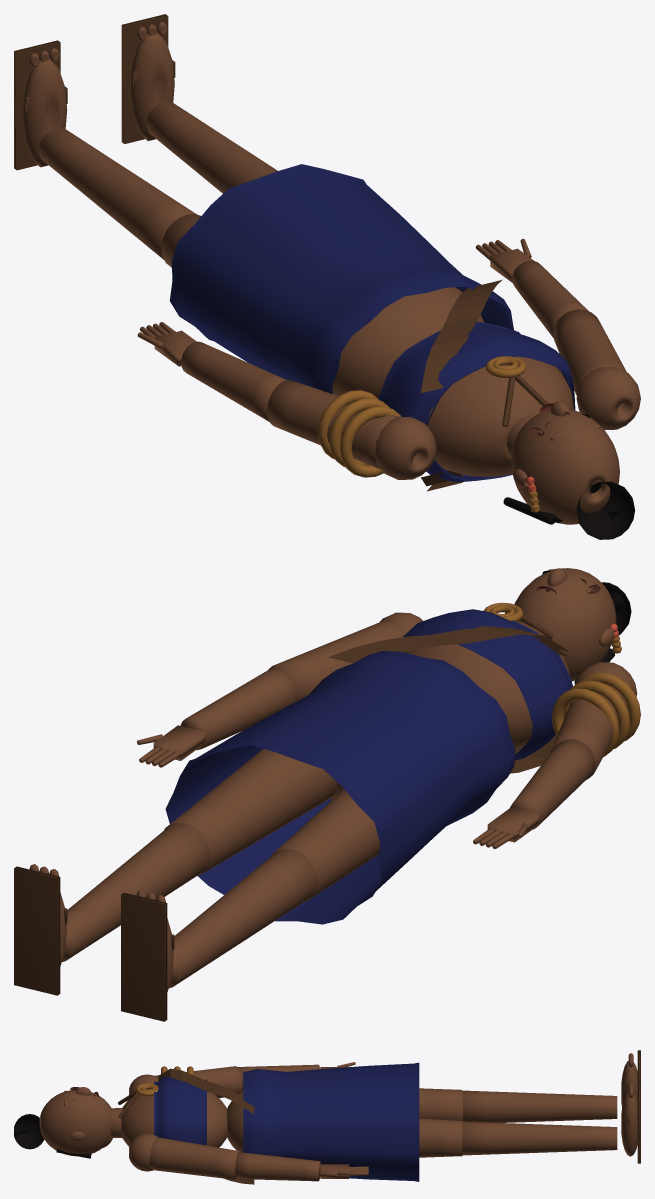
Rendered from ADANNA_AD03_V5.obj.
The picture shows the model from 3 angles, top to bottom: view 1: azimuth 30°, elevation 25°; view 2: azimuth 150°, elevation 25°; view 3: azimuth 270°, elevation 25°; orthographic projection. The views are drawn at different scales.
Parts seen in each view (by area): view 1: skirt_wrap_indigo, shin_foot.L, neck_torso_upper, head, shin_foot.R, wrap_top_indigo, upperarm.L, pelvis_lower, upperarm.R, forearm_hand.L, forearm_hand.R, baldric_L_to_R (+8 smaller); view 2: skirt_wrap_indigo, thigh.R, shin_foot.L, shin_foot.R, wrap_top_indigo, head, forearm_hand.R, sandal.L, sandal.R, thigh.L, forearm_hand.L, neck_torso_upper (+7 smaller); view 3: skirt_wrap_indigo, shin_foot.R, shin_foot.L, head, upperarm.R, wrap_top_indigo, forearm_hand.R, neck_torso_upper, thigh.R, thigh.L, upperarm.L, baldric_L_to_R (+5 smaller).
Boxes of the visible parts, <box> form: skirt_wrap_indigo: <box>169,164,513,393</box>; shin_foot.L: <box>22,48,196,259</box>; neck_torso_upper: <box>427,356,573,476</box>; head: <box>507,409,619,524</box>; shin_foot.R: <box>130,22,277,193</box>; wrap_top_indigo: <box>378,321,575,482</box>; upperarm.L: <box>267,380,436,479</box>; pelvis_lower: <box>332,287,484,398</box>; upperarm.R: <box>553,309,640,429</box>; forearm_hand.L: <box>137,322,286,421</box>; forearm_hand.R: <box>475,238,588,338</box>; baldric_L_to_R: <box>421,279,502,491</box>; skirt_wrap_indigo: <box>165,651,515,924</box>; thigh.R: <box>164,749,336,875</box>; shin_foot.L: <box>136,849,317,991</box>; shin_foot.R: <box>29,823,209,965</box>; wrap_top_indigo: <box>402,609,572,760</box>; head: <box>514,568,616,681</box>; forearm_hand.R: <box>137,667,296,767</box>; sandal.L: <box>121,892,174,1021</box>; sandal.R: <box>14,866,67,995</box>; thigh.L: <box>270,789,379,901</box>; forearm_hand.L: <box>473,739,595,849</box>; neck_torso_upper: <box>405,621,569,748</box>; skirt_wrap_indigo: <box>243,1062,419,1181</box>; shin_foot.R: <box>462,1084,637,1156</box>; shin_foot.L: <box>462,1053,637,1122</box>; head: <box>39,1089,122,1156</box>; upperarm.R: <box>129,1133,240,1179</box>; wrap_top_indigo: <box>154,1076,206,1145</box>; forearm_hand.R: <box>235,1152,368,1181</box>; neck_torso_upper: <box>121,1089,227,1147</box>; thigh.R: <box>419,1118,462,1157</box>; thigh.L: <box>419,1088,462,1121</box>; upperarm.L: <box>129,1066,242,1098</box>; baldric_L_to_R: <box>158,1068,254,1184</box>.
Size of the model in its own units: 0.7784 by 0.3318 by 1.84.
